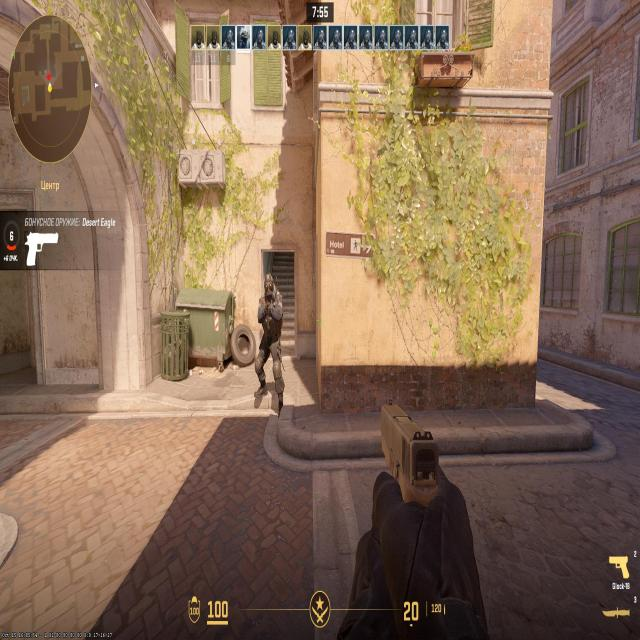CT: (259, 271, 283, 404)
CT_heat: (264, 280, 274, 306)
